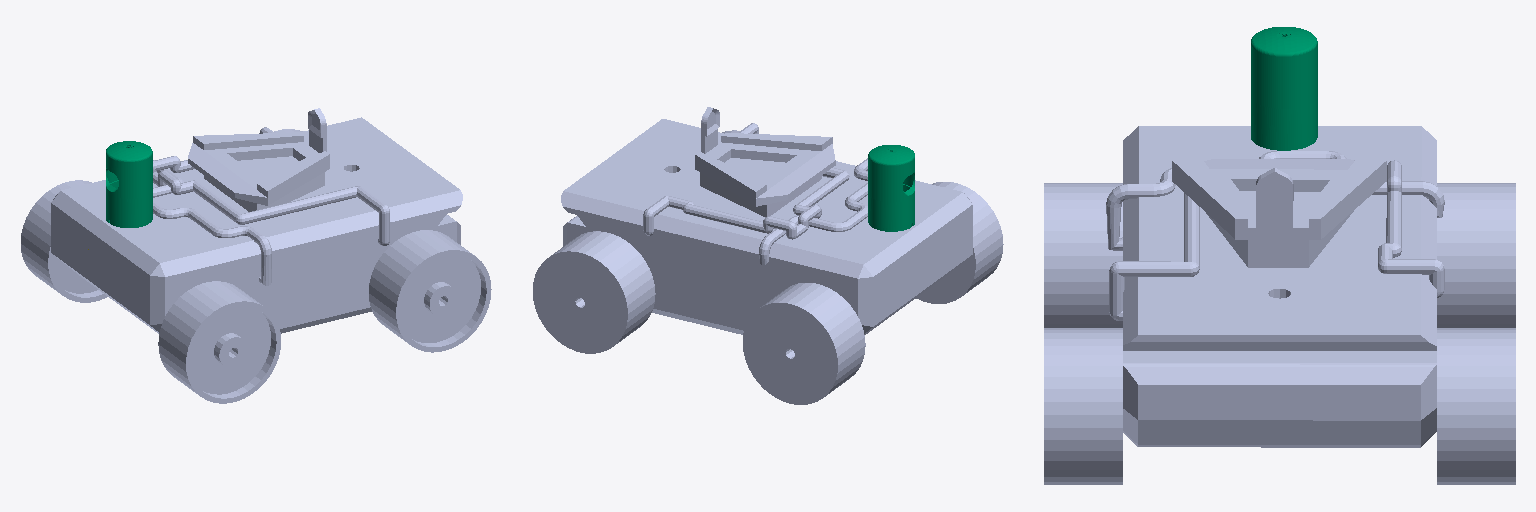
The robot description file, URDF, robot "mobile_manipulator":
<?xml version="1.0"?>

<robot name="mobile_manipulator">

<!--################################# BASE @HEHE-wkwkwkw #####################################-->
<!--################################# BASE @HEHE-wkwkwkw #####################################-->
<!--################################# BASE @HEHE-wkwkwkw #####################################-->

  <link name="base_link">
    <inertial>
      <origin
        xyz="0.0030946 4.78250032638821E-11 0.053305"
        rpy="0 0 0" />
      <mass
        value="47.873" />
      <inertia
        ixx="0.774276574699151"
        ixy="-1.03781944357671E-10"
        ixz="0.00763014265820928"
        iyy="1.64933255189991"
        iyz="1.09578155845563E-12"
        izz="2.1239326987473" />
    </inertial>
    <visual>
      <origin
        xyz="0 0 0"
        rpy="1.5707963267949 0 3.14" />
      <geometry>
        <mesh filename="package://mobile_manipulator_body/meshes/robot_base.stl" />
      </geometry>
      <material
        name="">
        <color
          rgba="0.79216 0.81961 0.93333 1" />
      </material>
    </visual>
    <collision>
      <origin
        xyz="0 0 0"
        rpy="1.5707963267949 0 3.14" />
      <geometry>
        <mesh filename="package://mobile_manipulator_body/meshes/robot_base.stl" />
      </geometry>
    </collision>
  </link>

<link name="front_left_wheel">
    <inertial>
      <origin
        xyz="-4.1867E-18 0.0068085 -1.65658661799998E-18"
        rpy="0 0 0" />
      <mass
        value="2.6578" />
      <inertia
        ixx="0.00856502765719703"
        ixy="1.5074118157338E-19"
        ixz="-4.78150098725052E-19"
        iyy="0.013670640432096"
        iyz="-2.68136447099727E-19"
        izz="0.00856502765719703" />
    </inertial>
    <visual>
      <origin
        xyz="0 0 0"
        rpy="1.5707963267949 0 0" />
      <geometry>
        <mesh filename="package://mobile_manipulator_body/meshes/wheel.stl" />
      </geometry>
      <material
        name="">
        <color
          rgba="0.79216 0.81961 0.93333 1" />
      </material>
    </visual>
    <collision>
      <origin
        xyz="0 0 0"
        rpy="1.5707963267949 0 0" />
      <geometry>
        <mesh filename="package://mobile_manipulator_body/meshes/wheel.stl" />
      </geometry>
    </collision>
  </link>

<link name="front_right_wheel">
    <inertial>
      <origin
        xyz="-4.1867E-18 0.0068085 -1.65658661799998E-18"
        rpy="0 0 0" />
      <mass
        value="2.6578" />
      <inertia
        ixx="0.00856502765719703"
        ixy="1.5074118157338E-19"
        ixz="-4.78150098725052E-19"
        iyy="0.013670640432096"
        iyz="-2.68136447099727E-19"
        izz="0.00856502765719703" />
    </inertial>
    <visual>
      <origin
        xyz="0 0 0"
        rpy="1.5707963267949 0 0" />
      <geometry>
        <mesh filename="package://mobile_manipulator_body/meshes/wheel.stl" />
      </geometry>
      <material
        name="">
        <color
          rgba="0.79216 0.81961 0.93333 1" />
      </material>
    </visual>
    <collision>
      <origin
        xyz="0 0 0"
        rpy="1.5707963267949 0 0" />
      <geometry>
        <mesh filename="package://mobile_manipulator_body/meshes/wheel.stl" />
      </geometry>
    </collision>
  </link>

<link name="rear_left_wheel">
    <inertial>
      <origin
        xyz="-4.1867E-18 0.0068085 -1.65658661799998E-18"
        rpy="0 0 0" />
      <mass
        value="2.6578" />
      <inertia
        ixx="0.00856502765719703"
        ixy="1.5074118157338E-19"
        ixz="-4.78150098725052E-19"
        iyy="0.013670640432096"
        iyz="-2.68136447099727E-19"
        izz="0.00856502765719703" />
    </inertial>
    <visual>
      <origin
        xyz="0 0 0"
        rpy="1.5707963267949 0 0" />
      <geometry>
        <mesh filename="package://mobile_manipulator_body/meshes/wheel.stl" />
      </geometry>
      <material
        name="">
        <color
          rgba="0.79216 0.81961 0.93333 1" />
      </material>
    </visual>
    <collision>
      <origin
        xyz="0 0 0"
        rpy="1.5707963267949 0 0" />
      <geometry>
        <mesh filename="package://mobile_manipulator_body/meshes/wheel.stl" />
      </geometry>
    </collision>
  </link>

<link name="rear_right_wheel">
    <inertial>
      <origin
        xyz="-4.1867E-18 0.0068085 -1.65658661799998E-18"
        rpy="0 0 0" />
      <mass
        value="2.6578" />
      <inertia
        ixx="0.00856502765719703"
        ixy="1.5074118157338E-19"
        ixz="-4.78150098725052E-19"
        iyy="0.013670640432096"
        iyz="-2.68136447099727E-19"
        izz="0.00856502765719703" />
    </inertial>
    <visual>
      <origin
        xyz="0 0 0"
        rpy="1.5707963267949 0 0" />
      <geometry>
        <mesh filename="package://mobile_manipulator_body/meshes/wheel.stl" />
      </geometry>
      <material
        name="">
        <color
          rgba="0.79216 0.81961 0.93333 1" />
      </material>
    </visual>
    <collision>
      <origin
        xyz="0 0 0"
        rpy="1.5707963267949 0 0" />
      <geometry>
        <mesh filename="package://mobile_manipulator_body/meshes/test/wheel.dae" />
      </geometry>
    </collision>
  </link>


<joint name="front_left_wheel_joint" type="continuous">
    <axis xyz="0 1 0"/>
    <parent link ="base_link"/>
    <child link ="front_left_wheel"/>
    <origin rpy ="0 0 0" xyz= "0.220 0.250 0"/>
  </joint>


<joint name="front_right_wheel_joint" type="continuous">
    <axis xyz="0 1 0"/>
    <parent link ="base_link"/>
    <child link ="front_right_wheel"/>
    <origin rpy ="0 0 0" xyz= "0.220 -0.250 0"/>
  </joint>

<joint name="rear_left_wheel_joint" type="continuous">
    <axis xyz="0 1 0"/>
    <parent link ="base_link"/>
    <child link ="rear_left_wheel"/>
    <origin rpy ="0 0 0" xyz= "-0.220 0.250 0"/>
  </joint>

<joint name="rear_right_wheel_joint" type="continuous">
    <axis xyz="0 1 0"/>
    <parent link ="base_link"/>
    <child link ="rear_right_wheel"/>
    <origin rpy ="0 0 0" xyz= "-0.220 -0.250 0"/>
</joint>








<!--############################## ARM  @HEHE-wkwkwkw   ########################################-->
<!--############################## ARM  @HEHE-wkwkwkw   ########################################-->
<!--############################## ARM  @HEHE-wkwkwkw   ########################################-->


 <link name="arm_base">
    <inertial>
      <origin
        xyz="7.7128E-09 -0.063005 -3.01969999961422E-08"
        rpy="0 0 0" />
      <mass
        value="1.6004" />
      <inertia
        ixx="0.00552196561445819"
        ixy="7.9550614501301E-10"
        ixz="-1.34378458924839E-09"
        iyy="0.00352397447953875"
        iyz="-1.10071809773382E-08"
        izz="0.00553739792746489" />
    </inertial>
    <visual>
      <origin
        xyz="0 0 0"
        rpy="0 0 0" />
      <geometry>
        <mesh filename="package://mobile_manipulator_body/meshes/arm_base.stl" />
      </geometry>
      <material
        name="">
        <color
          rgba="0.79216 0.81961 0.93333 1" />
      </material>
    </visual>
    <collision>
      <origin
        xyz="0 0 0"
        rpy="0 0 0" />
      <geometry>
        <mesh filename="package://mobile_manipulator_body/meshes/arm_base.stl" />
      </geometry>
    </collision>
</link>

<link
    name="bicep">
    <inertial>
      <origin
        xyz="0.12821 3.5589E-06 0.052492"
        rpy="0 0 0" />
      <mass
        value="1.1198" />
      <inertia
        ixx="0.0012474"
        ixy="-5.4004E-07"
        ixz="-0.0013148"
        iyy="0.0072923"
        iyz="-1.8586E-07"
        izz="0.0068178" />
    </inertial>
    <visual>
      <origin
        xyz="0 0 0"
        rpy="0 -1.5708 0" />
      <geometry>
        <mesh filename="package://mobile_manipulator_body/meshes/bicep.stl" />
      </geometry>
      <material
        name="">
        <color
          rgba="0.79216 0.81961 0.93333 1" />
      </material>
    </visual>
    <collision>
      <origin
        xyz="0 0 0"
        rpy="0 -1.5708 0" />
      <geometry>
        <mesh filename="package://mobile_manipulator_body/meshes/bicep.stl" />
      </geometry>
    </collision>
  </link>


  <link
    name="bottom_wrist">
    <inertial>
      <origin
        xyz="-9.1053E-08 -0.069257 -1.86629999995759E-07"
        rpy="0 0 0" />
      <mass
        value="0.27721" />
      <inertia
        ixx="0.00104290750143942"
        ixy="4.37155302268076E-09"
        ixz="-2.45049603914627E-09"
        iyy="0.000380518373895034"
        iyz="-7.56009835172156E-09"
        izz="0.00106006525067445" />
    </inertial>
    <visual>
      <origin
        xyz="0 0 0.13522"
        rpy="3.14 0 1.5708" />
      <geometry>
        <mesh filename="package://mobile_manipulator_body/meshes/wrist.stl" />
      </geometry>
      <material
        name="">
        <color
          rgba="0.79216 0.81961 0.93333 1" />
      </material>
    </visual>
    <collision>
      <origin
        xyz="0 0 0.13522"
        rpy="3.14 0 1.5708" />
      <geometry>
        <mesh filename="package://mobile_manipulator_body/meshes/wrist.stl" />
      </geometry>
    </collision>
  </link>

 <link
    name="elbow">
    <inertial>
      <origin
        xyz="-0.11109 1.1476E-08 0.046469"
        rpy="0 0 0" />
      <mass
        value="0.84845" />
      <inertia
        ixx="0.00079656"
        ixy="-7.8011E-10"
        ixz="0.00053616"
        iyy="0.003576"
        iyz="4.6326E-10"
        izz="0.0033698" />
    </inertial>
    <visual>
      <origin
        xyz="0.0 0.05163 0.20994"
        rpy="0 -1.5708 0" />
      <geometry>
        <mesh filename="package://mobile_manipulator_body/meshes/elbow.stl" />
      </geometry>
      <material
        name="">
        <color
          rgba="0.79216 0.81961 0.93333 1" />
      </material>
    </visual>
    <collision>
      <origin
        xyz="0.0 0.05163 0.20994"
        rpy="0 -1.5708 0" />
      <geometry>
        <mesh filename="package://mobile_manipulator_body/meshes/elbow.stl" />
      </geometry>
    </collision>
  </link>

<link
    name="top_wrist">
    <inertial>
      <origin
        xyz="-9.1053E-08 -0.069257 -1.86629999995759E-07"
        rpy="0 0 0" />
      <mass
        value="0.27721" />
      <inertia
        ixx="0.00104290750143942"
        ixy="4.37155302268076E-09"
        ixz="-2.45049603914627E-09"
        iyy="0.000380518373895034"
        iyz="-7.56009835172156E-09"
        izz="0.00106006525067445" />
    </inertial>
    <visual>
      <origin
        xyz="0 0 0.13522"
        rpy="3.14 0 1.5708" />
      <geometry>
        <mesh filename="package://mobile_manipulator_body/meshes/wrist.stl" />
      </geometry>
      <material
        name="">
        <color
          rgba="0.79216 0.81961 0.93333 1" />
      </material>
    </visual>
    <collision>
      <origin
        xyz="0 0 0.13522"
        rpy="3.14 0 1.5708" />
      <geometry>
        <mesh filename="package://mobile_manipulator_body/meshes/wrist.stl" />
      </geometry>
    </collision>
  </link>

<joint name="arm_base_joint" type="continuous">
  <axis xyz="0 0 1"/>
  <parent link="base_link"/>
  <child link="arm_base"/>
  <origin rpy="0 0 0" xyz="0.20 0.0 0.145"/>
</joint>

<joint name="shoulder_joint" type="continuous">
  <axis xyz="0 1 0"/>
  <parent link="arm_base"/>
  <child link="bicep"/>
  <origin rpy="0 0 1.5708" xyz="-0.05166 0.0 0.20271"/>
</joint>

<joint name="bottom_wrist_joint" type="continuous">
  <axis xyz="0 1 0"/>
  <parent link="bicep"/>
  <child link="bottom_wrist"/>
  <origin rpy="0 0 0" xyz="0.0 -0.05194 0.269"/>
</joint>

<joint name="elbow_joint" type="continuous">
  <axis xyz="0 0 1"/>
  <parent link="bottom_wrist"/>
  <child link="elbow"/>
  <origin rpy="0 0 0" xyz="0.0 0 0.13522"/>
</joint>

<joint name="top_wrist_joint" type="continuous">
  <axis xyz="0 1 0"/>
  <parent link="elbow"/>
  <child link="top_wrist"/>
  <origin rpy="0 0 0" xyz="0.0 0 0.20994"/>
</joint>



<!--########################## SENSORS ############################################-->
<!--########################## SENSORS ############################################-->
<!--########################## SENSORS ############################################-->


<link name="laser_link">
  <collision>
   <origin xyz="0 0 0" rpy="0 0 0"/>
   <geometry>
    <box size="0.1 0.1 0.1"/>
   </geometry>
  </collision>
  
      <!-- POLIBATAM -->       <!-- POLIBATAM -->        <!-- POLIBATAM -->        <!-- POLIBATAM -->        <!-- POLIBATAM --> 
      
  <visual>
   <origin xyz="-0.038 0 -0.1" rpy="0 0 1.50"/>
    <geometry>
      <mesh filename="package://mobile_manipulator_body/meshes/test/Pact.dae" />
    </geometry>
  </visual>
  
  <inertial>
    <mass value="1e-5" />
    <origin xyz="0 0 0" rpy="0 0 0"/>
    <inertia ixx="1e-6" ixy="0" ixz="0" iyy="1e-6" iyz="0" izz="1e-6" />
  </inertial>
</link>

    <!-- LASERRR -->

<joint name="laser_joint" type="fixed">
  <axis xyz="0 1 0" />
  <origin xyz="-0.300 0 0.255" rpy="0 0 -3"/>
  <parent link="base_link"/>
  <child link="laser_link"/>
</joint>

<gazebo reference="laser_link">
  <sensor type="ray" name="laser">

    <visualize>true</visualize>

    <!-- update_rate 40 -->
    <update_rate>30</update_rate>
    <ray>
    <scan>
    <horizontal>
      <!-- sample 720 -->
      <samples>32</samples>
      
      <resolution>1</resolution>
      
            <!-- min_angle>-3.14159</min_angle -->
      <min_angle>-0.53529248</min_angle>
      
     <!-- max_angle>3.14159</max_angle --> 
      <max_angle>0.18622663</max_angle>
    </horizontal>
    </scan>
    <range>
    <min>0.10</min>
    <max>30.0</max>
    <resolution>0.01</resolution>
    </range>
    </ray>
    <plugin name="gazebo_ros_head_hokuyo_controller" filename="libgazebo_ros_laser.so">
      <topicName>/scan</topicName>
      <frameName>laser_link</frameName>

    </plugin>
  </sensor>
     
</gazebo>

<link name="imu_link">
  <inertial>
    <mass value="0.001"/>
    <origin rpy="0 0 0" xyz="0 0 0"/>
    <inertia ixx="0.0001" ixy="0" ixz="0" iyy="0.000001" iyz="0" izz="0.0001"/>
  </inertial>
  <visual>
    <origin rpy="0 0 0" xyz="0 0 0"/>
    <geometry>
      <box size="0.001 0.001 0.001"/>
    </geometry>
  </visual>
  <collision>
    <origin rpy="0 0 0" xyz="0 0 0"/>
    <geometry>
      <box size=".001 .001 .001"/>
    </geometry>
  </collision>
</link>

<joint name="imu_joint" type="fixed">
  <axis xyz="1 0 0"/> <!-- 0 1 0 -->
    <origin xyz="-0.350 0 0.115"/>
    <parent link="base_link"/>
    <child link="imu_link"/>
</joint>

  <gazebo reference="imu_link">
    <gravity>true</gravity>
    <sensor name="imu_sensor" type="imu">
      <always_on>true</always_on>
      <update_rate>100</update_rate>
      <visualize>true</visualize>
      <topic>__default_topic__</topic>
      <plugin filename="libgazebo_ros_imu_sensor.so" name="imu_plugin">
        <topicName>imu_data</topicName>
        <bodyName>imu_link</bodyName>
        <updateRateHZ>10.0</updateRateHZ>
        <gaussianNoise>0.0</gaussianNoise>
        <xyzOffset>0 0 0</xyzOffset>
        <rpyOffset>0 0 0</rpyOffset>
        <frameName>imu_link</frameName>
        <initialOrientationAsReference>false</initialOrientationAsReference>
      </plugin>
      <pose>0 0 0 0 0 0</pose>
    </sensor>
  </gazebo>



<!--###############################################################################-->

























<!--########################## BASE TRANSMISSIONS ############################################-->
<transmission name="front_left_wheel_trans" type="SimpleTransmission">
  <type>transmission_interface/SimpleTransmission</type>
  <actuator name="front_left_wheel_motor">
   <hardwareInterface>hardware_interface/VelocityJointInterface</hardwareInterface>
   <mechanicalReduction>1</mechanicalReduction>
  </actuator>
  <joint name="front_left_wheel_joint">
   <hardwareInterface>hardware_interface/VelocityJointInterface</hardwareInterface>
  </joint>
</transmission>

<transmission name="front_right_wheel_trans" type="SimpleTransmission">
  <type>transmission_interface/SimpleTransmission</type>
  <actuator name="front_right_wheel_motor">
   <hardwareInterface>hardware_interface/VelocityJointInterface</hardwareInterface>
   <mechanicalReduction>1</mechanicalReduction>
  </actuator>
  <joint name="front_right_wheel_joint">
   <hardwareInterface>hardware_interface/VelocityJointInterface</hardwareInterface>
  </joint>
</transmission>

<transmission name="rear_left_wheel_trans" type="SimpleTransmission">
  <type>transmission_interface/SimpleTransmission</type>
  <actuator name="rear_left_wheel_motor">
   <hardwareInterface>hardware_interface/VelocityJointInterface</hardwareInterface>
   <mechanicalReduction>1</mechanicalReduction>
  </actuator>
  <joint name="rear_left_wheel_joint">
   <hardwareInterface>hardware_interface/VelocityJointInterface</hardwareInterface>
  </joint>
</transmission>

<transmission name="rear_right_wheel_trans" type="SimpleTransmission">
  <type>transmission_interface/SimpleTransmission</type>
  <actuator name="rear_right_wheel_motor">
   <hardwareInterface>hardware_interface/VelocityJointInterface</hardwareInterface>
   <mechanicalReduction>1</mechanicalReduction>
  </actuator>
  <joint name="rear_right_wheel_joint">
   <hardwareInterface>hardware_interface/VelocityJointInterface</hardwareInterface>
  </joint>
</transmission>
<!--################################ ARM TRANSIMISSIONS ######################################-->
<transmission name="arm_base_trans" type="SimpleTransmission">
  <type>transmission_interface/SimpleTransmission</type>
  <actuator name="arm_base_motor">
   <hardwareInterface>hardware_interface/PositionJointInterface</hardwareInterface>
   <mechanicalReduction>1</mechanicalReduction>
  </actuator>
  <joint name="arm_base_joint">
   <hardwareInterface>hardware_interface/PositionJointInterface</hardwareInterface>
  </joint>
</transmission>

<transmission name="shoulder_trans" type="SimpleTransmission">
  <type>transmission_interface/SimpleTransmission</type>
  <actuator name="shoulder_motor">
   <hardwareInterface>hardware_interface/PositionJointInterface</hardwareInterface>
   <mechanicalReduction>1</mechanicalReduction>
  </actuator>
  <joint name="shoulder_joint">
   <hardwareInterface>hardware_interface/PositionJointInterface</hardwareInterface>
  </joint>
</transmission>

<transmission name="bottom_wrist_trans" type="SimpleTransmission">
  <type>transmission_interface/SimpleTransmission</type>
  <actuator name="bottom_wrist_motor">
   <hardwareInterface>hardware_interface/PositionJointInterface</hardwareInterface>
   <mechanicalReduction>1</mechanicalReduction>
  </actuator>
  <joint name="bottom_wrist_joint">
   <hardwareInterface>hardware_interface/PositionJointInterface</hardwareInterface>
  </joint>
</transmission>

<transmission name="elbow_trans" type="SimpleTransmission">
  <type>transmission_interface/SimpleTransmission</type>
  <actuator name="elbow_motor">
   <hardwareInterface>hardware_interface/PositionJointInterface</hardwareInterface>
   <mechanicalReduction>1</mechanicalReduction>
  </actuator>
  <joint name="elbow_joint">
   <hardwareInterface>hardware_interface/PositionJointInterface</hardwareInterface>
  </joint>
</transmission>

<transmission name="top_wrist_trans" type="SimpleTransmission">
  <type>transmission_interface/SimpleTransmission</type>
  <actuator name="top_wrist_motor">
   <hardwareInterface>hardware_interface/PositionJointInterface</hardwareInterface>
   <mechanicalReduction>1</mechanicalReduction>
  </actuator>
  <joint name="top_wrist_joint">
   <hardwareInterface>hardware_interface/PositionJointInterface</hardwareInterface>
  </joint>
</transmission>

<!--######################################################################-->
<gazebo>
    <plugin name="gazebo_ros_control" filename="libgazebo_ros_control.so">
      <robotNamespace>/</robotNamespace>
      <controlPeriod>0.001</controlPeriod>
      <legacyModeNS>false</legacyModeNS>
    </plugin>
  </gazebo>
<!--######################################################################-->
  <gazebo>
    <plugin name="joint_state_publisher" filename="libgazebo_ros_joint_state_publisher.so">
      <jointName>arm_base_joint, shoulder_joint, bottom_wrist_joint, elbow_joint, bottom_wrist_joint</jointName>
    </plugin>
  </gazebo>
<!--######################################################################-->

<!--######################################################################-->
<gazebo>
      <plugin name="diff_drive_controller" filename="libgazebo_ros_diff_drive.so">
        <legacyMode>false</legacyMode>
        <alwaysOn>true</alwaysOn>
        <updateRate>1000.0</updateRate>
        <leftJoint>front_left_wheel_joint, rear_left_wheel_joint</leftJoint>
        <rightJoint>front_right_wheel_joint, rear_right_wheel_joint</rightJoint>
        <wheelSeparation>0.5</wheelSeparation>
        <wheelDiameter>0.2</wheelDiameter>
        <wheelTorque>10</wheelTorque>
        <publishTf>1</publishTf>
        <odometryFrame>map</odometryFrame>
        <commandTopic>cmd_vel</commandTopic>
        <odometryTopic>odom</odometryTopic>
        <robotBaseFrame>base_link</robotBaseFrame>
        <wheelAcceleration>2.8</wheelAcceleration>
        <publishWheelJointState>true</publishWheelJointState>
        <publishWheelTF>false</publishWheelTF>
        <odometrySource>world</odometrySource>
        <rosDebugLevel>Debug</rosDebugLevel>
      </plugin>
</gazebo>
<!--######################################################################-->
<gazebo reference="front_left_wheel">
 <mu1 value="1.0"/>
 <mu2 value="1.0"/>
 <kp value="10000000.0" />
 <kd value="1.0" />
 <fdir1 value="1 0 0"/>
</gazebo>

<gazebo reference="front_right_wheel">
 <mu1 value="1.0"/>
 <mu2 value="1.0"/>
 <kp value="10000000.0" />
 <kd value="1.0" />
 <fdir1 value="1 0 0"/>
</gazebo>

<gazebo reference="rear_left_wheel">
 <mu1 value="1.0"/>
 <mu2 value="1.0"/>
 <kp value="10000000.0" />
 <kd value="1.0" />
 <fdir1 value="1 0 0"/>
</gazebo>

<gazebo reference="rear_left_wheel">
 <mu1 value="1.0"/>
 <mu2 value="1.0"/>
 <kp value="10000000.0" />
 <kd value="1.0" />
 <fdir1 value="1 0 0"/>
</gazebo>
<!--######################################################################-->

</robot>

--- Facts derived from the render (not from the file) ---
The picture shows the robot from 3 angles, left to right: view 1: azimuth 30°, elevation 25°; view 2: azimuth 150°, elevation 25°; view 3: azimuth 270°, elevation 25°; orthographic projection.
Model mobile_manipulator with 12 links and 11 joints (9 continuous, 2 fixed), rooted at base_link, posed every joint at zero.
Visible links, largest first — view 1: base_link, rear_right_wheel, front_right_wheel, laser_link, rear_left_wheel; view 2: base_link, front_left_wheel, rear_left_wheel, laser_link, rear_right_wheel; view 3: base_link, front_left_wheel, front_right_wheel, rear_left_wheel, rear_right_wheel, laser_link.
Boxes of the visible links, <box> form: base_link: <box>51,108,462,333</box>; rear_right_wheel: <box>158,281,280,403</box>; front_right_wheel: <box>369,230,491,352</box>; laser_link: <box>106,141,152,227</box>; rear_left_wheel: <box>21,180,107,302</box>; base_link: <box>561,107,972,334</box>; front_left_wheel: <box>533,231,655,353</box>; rear_left_wheel: <box>743,283,865,404</box>; laser_link: <box>868,145,914,231</box>; rear_right_wheel: <box>916,182,1003,303</box>; base_link: <box>1106,126,1444,447</box>; front_left_wheel: <box>1437,328,1515,484</box>; front_right_wheel: <box>1044,328,1122,484</box>; rear_left_wheel: <box>1437,183,1515,327</box>; rear_right_wheel: <box>1044,183,1122,327</box>; laser_link: <box>1251,27,1317,150</box>.
Bounding box of the posed robot: 0.6758 × 0.6 × 0.3968 m (x, y, z).
Meshes: 7 distinct files referenced, 6 mesh visuals loaded (2 binary STL, 1 Collada DAE); not drawn: 5 (reference not matched to a file when rendering).
